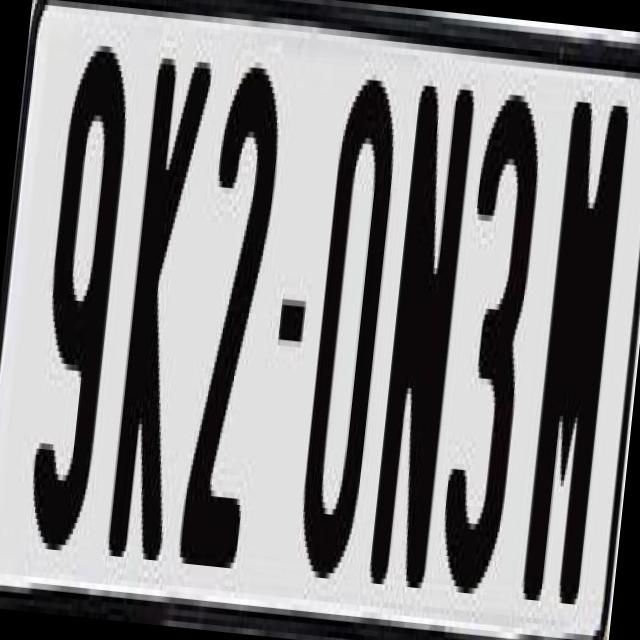0: (288, 65, 404, 598)
2: (173, 65, 293, 592)
3: (432, 74, 548, 596)
9: (21, 42, 140, 582)
K: (99, 51, 210, 590)
M: (515, 94, 631, 610)
N: (364, 84, 474, 606)
